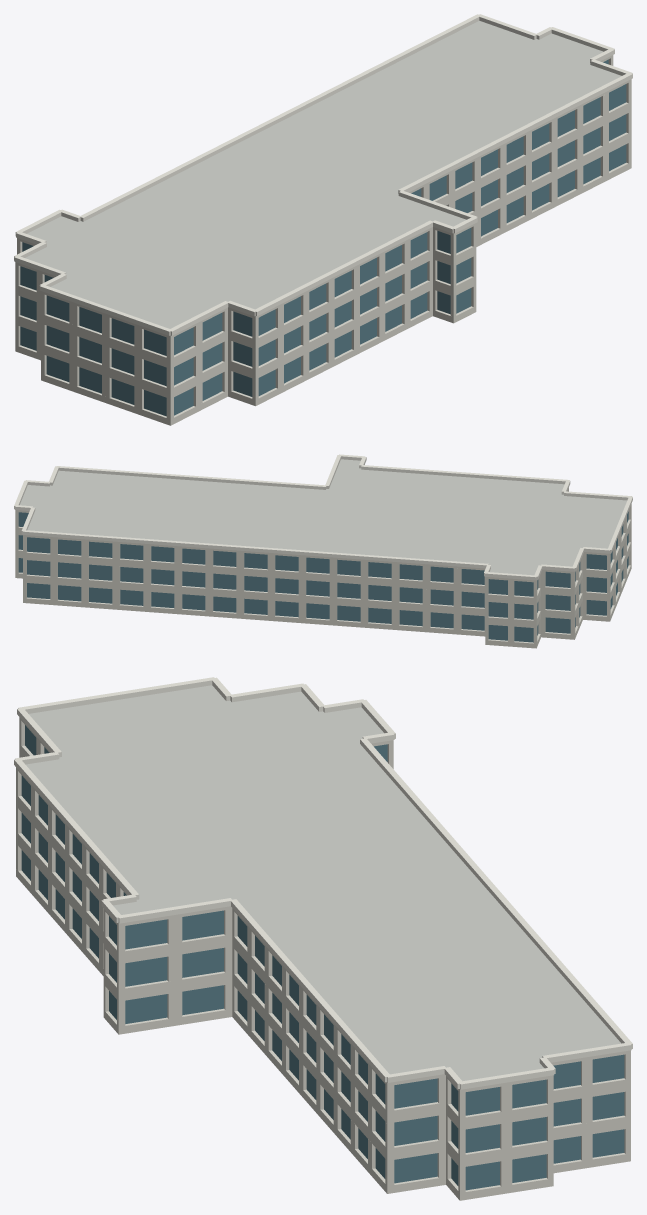
File: sb_586637093.far.glb
3 views of the same model, one above another, from view 1: azimuth 30°, elevation 25°; view 2: azimuth 150°, elevation 25°; view 3: azimuth 270°, elevation 25° (orthographic). The views are drawn at different scales.
Visible parts, largest first — view 1: roof, wall, glass, trim; view 2: roof, wall, glass, trim; view 3: roof, wall, glass, trim.
Boxes of the visible parts, <box> form: roof: <box>25,21,621,328</box>; wall: <box>15,55,631,425</box>; glass: <box>20,59,626,416</box>; trim: <box>14,14,632,335</box>; roof: <box>20,459,627,575</box>; wall: <box>15,464,631,648</box>; glass: <box>18,511,628,642</box>; trim: <box>14,454,632,580</box>; roof: <box>26,685,621,1081</box>; wall: <box>16,717,630,1200</box>; glass: <box>21,725,624,1190</box>; trim: <box>14,677,632,1089</box>.
Bounding box in the file's own units: 72.57 × 9.74 × 46.6.
